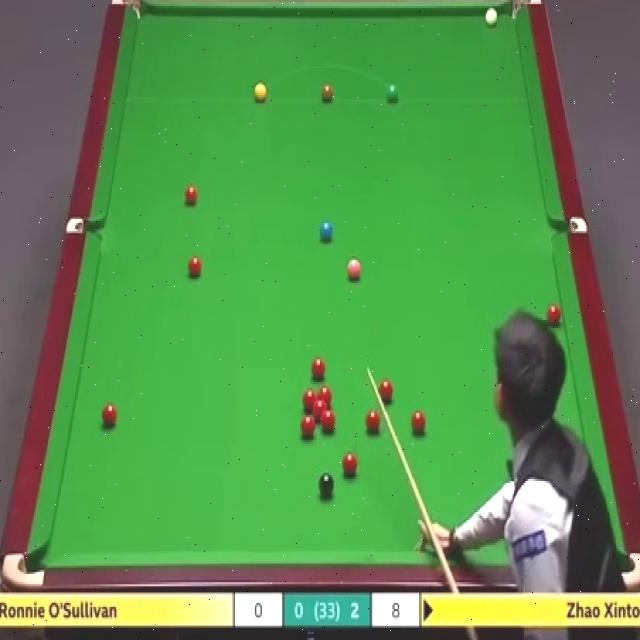black-ball: (318, 470, 336, 499)
blue-ball: (318, 220, 334, 243)
brown-ball: (321, 82, 334, 103)
green-ball: (385, 82, 399, 103)
pink-ball: (344, 258, 364, 287)
red-ball: (341, 450, 360, 478), (546, 302, 564, 331), (186, 256, 204, 280), (100, 403, 118, 427), (364, 410, 381, 435), (410, 411, 427, 436), (378, 378, 394, 404), (182, 185, 198, 209), (320, 411, 336, 433), (311, 358, 327, 380), (317, 385, 333, 406), (302, 392, 318, 412), (301, 416, 315, 438), (313, 400, 327, 419)
white-ball: (483, 6, 501, 32)
yellow-ball: (254, 83, 267, 103)
